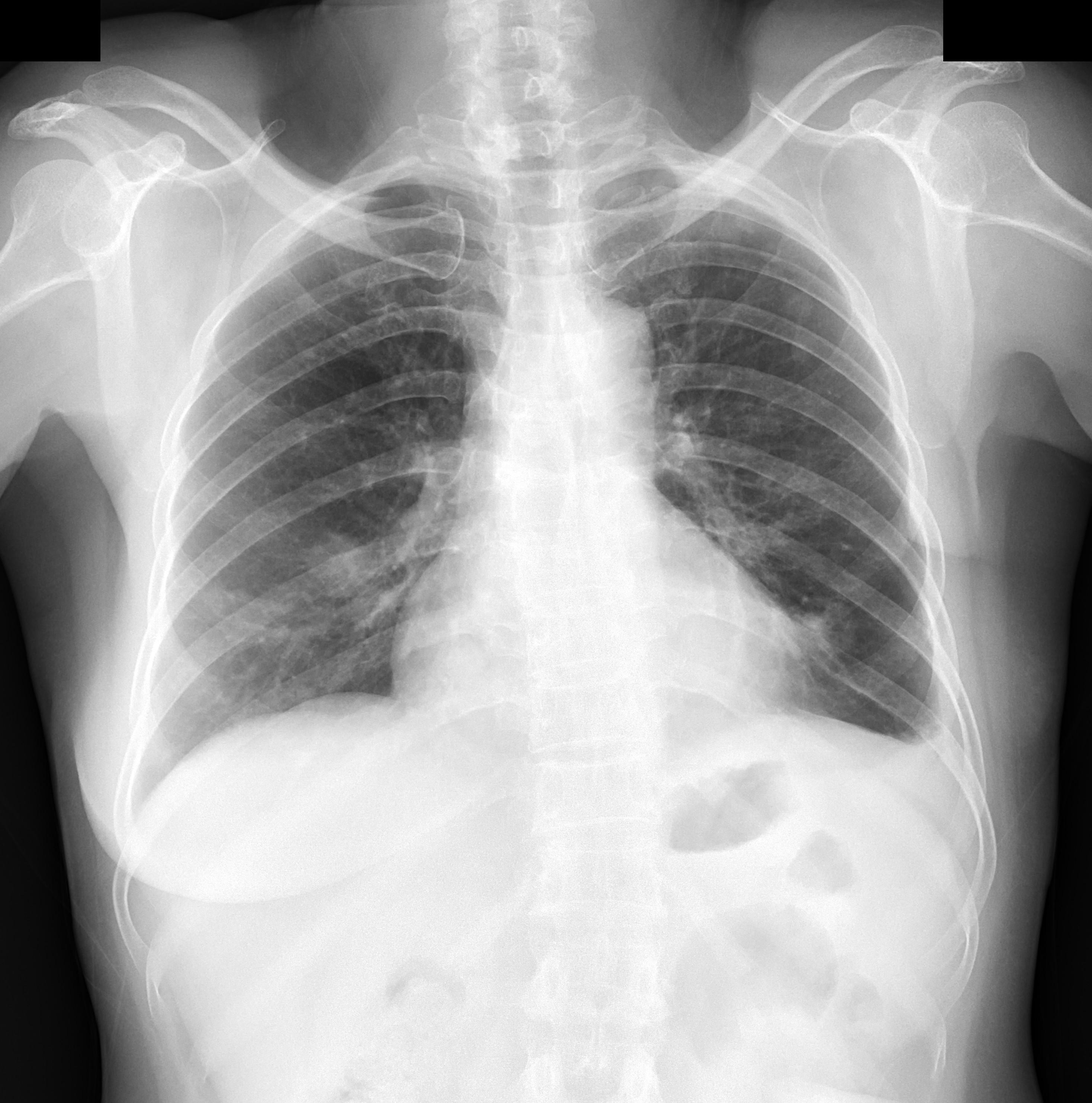Pleural thickening: (897, 667, 972, 778)
